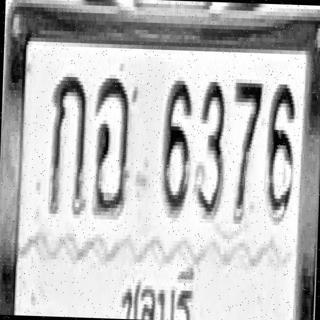A01: (48, 72, 88, 214)
A43: (91, 74, 132, 216)
N03: (194, 78, 226, 220)
N06: (160, 76, 192, 214), (264, 80, 295, 218)
N07: (230, 79, 262, 221)
P13: (116, 268, 201, 320)
